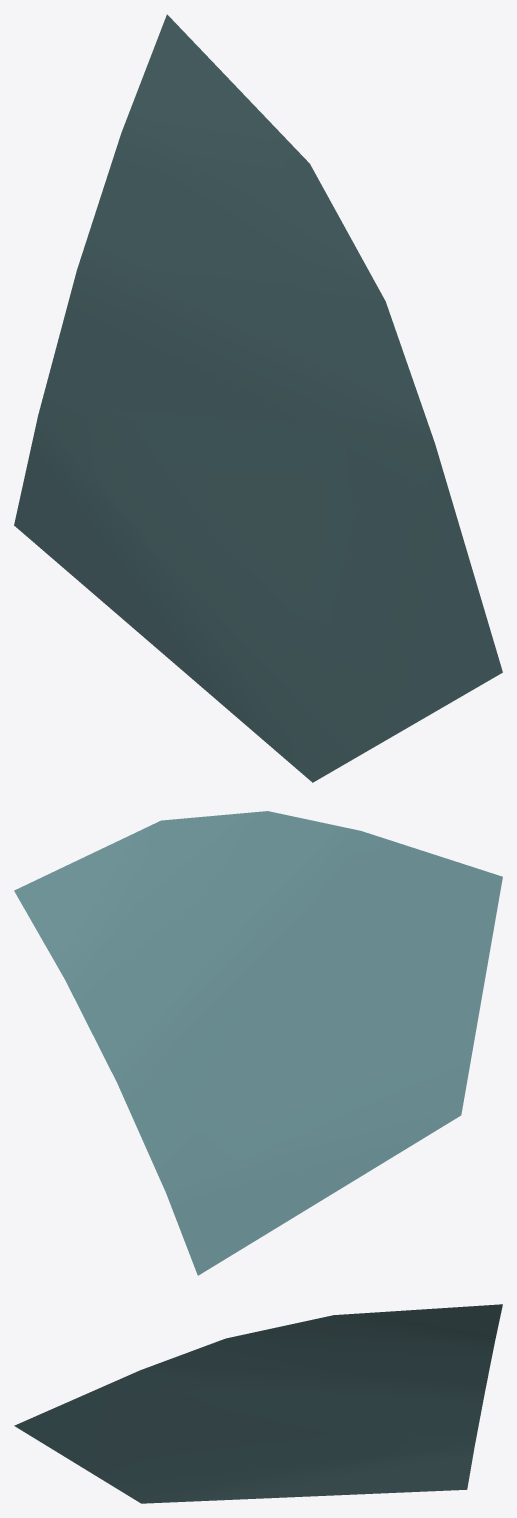
File: SUV_2_Door_Window_FR_Tessellate.fbx
3 views of the same model, one above another, from view 1: azimuth 30°, elevation 25°; view 2: azimuth 150°, elevation 25°; view 3: azimuth 270°, elevation 25° (orthographic). The views are drawn at different scales.
Parts seen in each view (by area): view 1: SUV_2_Door_Window_FR_Tessellate; view 2: SUV_2_Door_Window_FR_Tessellate; view 3: SUV_2_Door_Window_FR_Tessellate.
Part boxes in pixels (x1=…): SUV_2_Door_Window_FR_Tessellate: x1=14, y1=14, x2=502, y2=782; SUV_2_Door_Window_FR_Tessellate: x1=14, y1=811, x2=502, y2=1275; SUV_2_Door_Window_FR_Tessellate: x1=14, y1=1304, x2=502, y2=1503.
Size of the model in its own units: 17.87 by 41.22 by 73.08.
